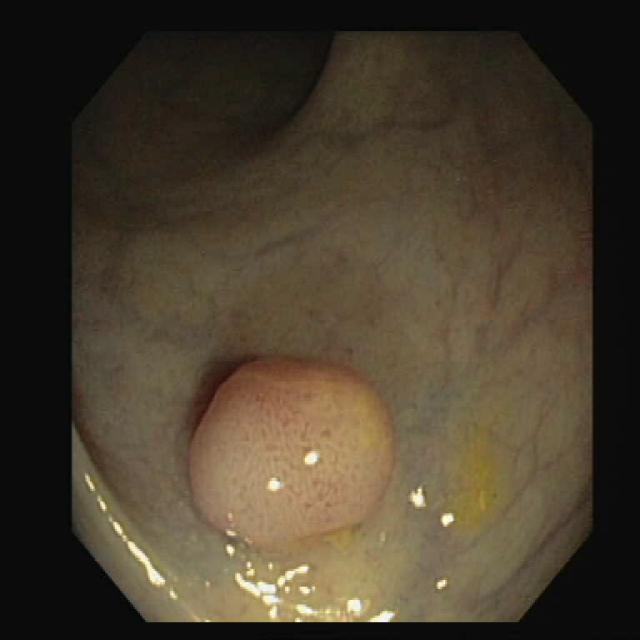tumor: (190, 360, 393, 558)
